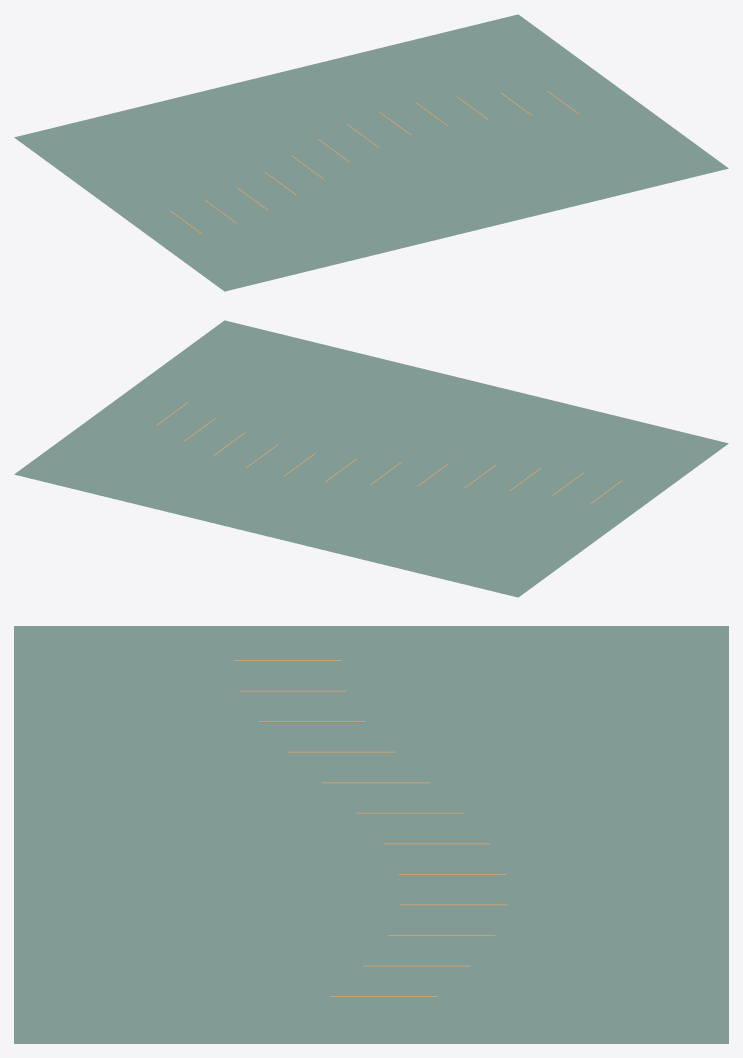
Rendered from 277_L120_L12_LayerReference.glb.
3 renders of one model, top to bottom at view 1: azimuth 30°, elevation 25°; view 2: azimuth 150°, elevation 25°; view 3: azimuth 270°, elevation 25°, orthographic. The views are drawn at different scales.
Visible parts, largest first — view 1: 0000__PSMAT__dielectric; view 2: 0000__PSMAT__dielectric; view 3: 0000__PSMAT__dielectric.
Part boxes in pixels (left/top/right/bottom): 0000__PSMAT__dielectric: left=14, top=14, right=728, bottom=291; 0000__PSMAT__dielectric: left=14, top=320, right=728, bottom=597; 0000__PSMAT__dielectric: left=14, top=626, right=728, bottom=1043.
Size of the model in its own units: 0.506 by 0.000148 by 0.366.
